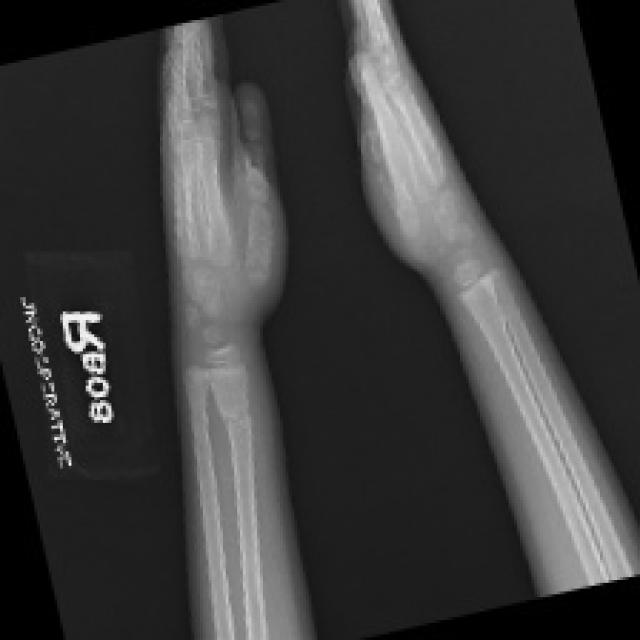fracture: (211, 394, 273, 459)
